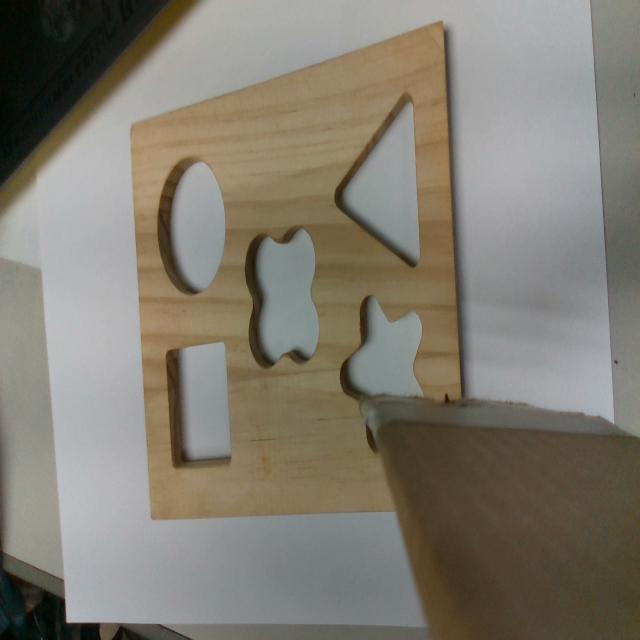circle: (155, 157, 225, 291)
flower: (246, 225, 321, 365)
square: (165, 338, 234, 473)
star: (343, 296, 425, 447)
triangle: (334, 93, 422, 268)
